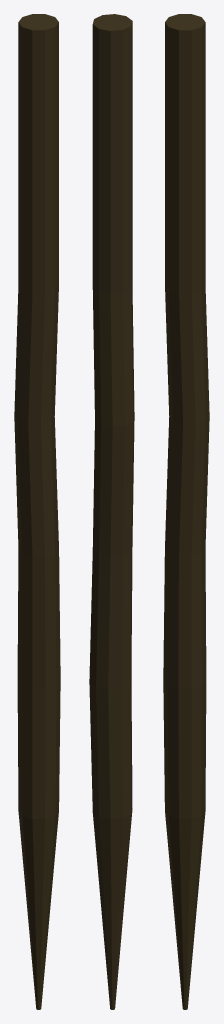
The model's file is Path.fbx.
The picture shows the model from 3 angles, left to right: view 1: azimuth 90°, elevation 25°; view 2: azimuth 210°, elevation 25°; view 3: azimuth 270°, elevation 25°; orthographic projection.
Parts seen in each view (by area): view 1: Path; view 2: Path; view 3: Path.
Boxes of the visible parts, x1,y1,x2,y2 form: Path: [14, 14, 60, 1009]; Path: [89, 14, 134, 1009]; Path: [163, 14, 209, 1009].
Bounding box in the file's own units: 2.39 × 61.77 × 2.63.
